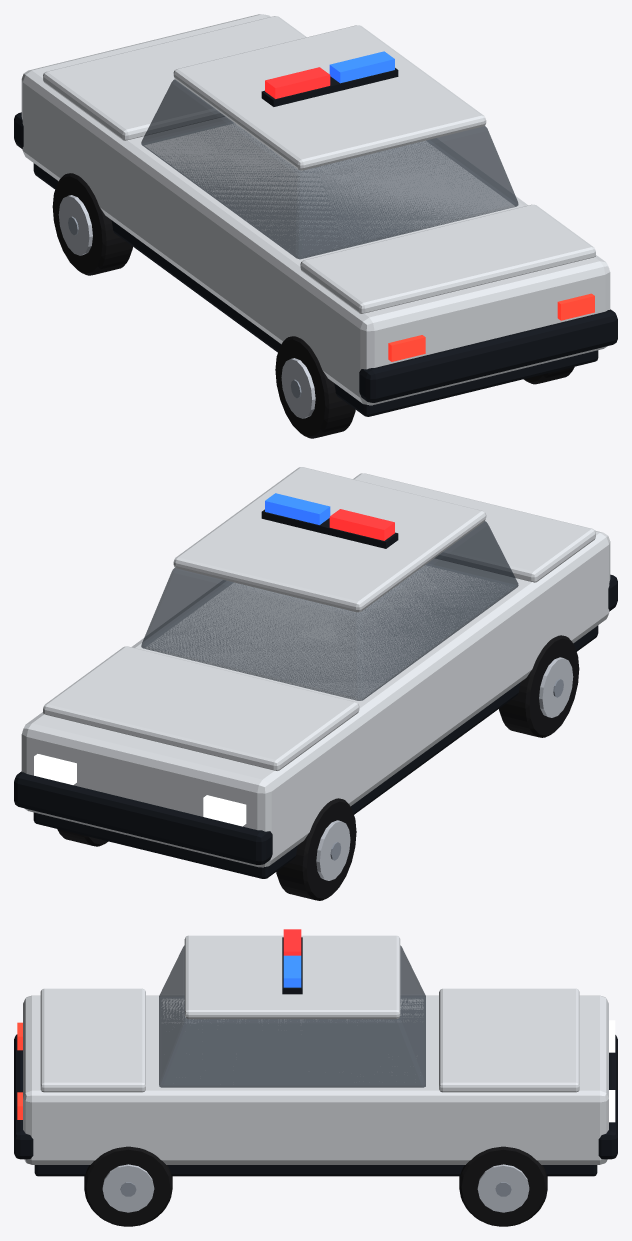
File: veh_police.glb
3 renders of one model, top to bottom at view 1: azimuth 30°, elevation 25°; view 2: azimuth 150°, elevation 25°; view 3: azimuth 270°, elevation 25°, orthographic. The views are drawn at different scales.
Visible parts, largest first — view 1: Body, Glass, Roof, Boot, Hood, Bumper_R, Skirt, Wheel_RL, Wheel_FL, Wheel_RL_Rim, Wheel_FL_Rim, Lightbar_R (+4 smaller); view 2: Body, Glass, Roof, Hood, Bumper_F, Boot, Skirt, Wheel_FL, Wheel_RL, Wheel_RL_Rim, Wheel_FL_Rim, Lightbar_R (+4 smaller); view 3: Body, Glass, Roof, Hood, Boot, Skirt, Wheel_FR, Wheel_RR, Wheel_FR_Rim, Wheel_RR_Rim, Bumper_R, Bumper_F (+2 smaller).
Boxes of the visible parts, left/top/right/bottom form: Body: left=21, top=14, right=610, bottom=405; Glass: left=141, top=79, right=518, bottom=259; Roof: left=173, top=25, right=486, bottom=170; Boot: left=300, top=204, right=595, bottom=313; Hood: left=43, top=16, right=306, bottom=140; Bumper_R: left=359, top=309, right=617, bottom=402; Skirt: left=33, top=163, right=598, bottom=416; Wheel_RL: left=275, top=336, right=355, bottom=438; Wheel_FL: left=52, top=173, right=132, bottom=275; Wheel_RL_Rim: left=281, top=358, right=315, bottom=418; Wheel_FL_Rim: left=58, top=195, right=92, bottom=255; Lightbar_R: left=265, top=67, right=330, bottom=98; Body: left=21, top=530, right=610, bottom=867; Glass: left=141, top=521, right=518, bottom=700; Roof: left=173, top=467, right=486, bottom=612; Hood: left=43, top=646, right=359, bottom=770; Bumper_F: left=14, top=771, right=272, bottom=864; Boot: left=353, top=473, right=595, bottom=582; Skirt: left=33, top=625, right=598, bottom=878; Wheel_FL: left=276, top=798, right=356, bottom=900; Wheel_RL: left=499, top=635, right=579, bottom=737; Wheel_RL_Rim: left=539, top=657, right=573, bottom=717; Wheel_FL_Rim: left=316, top=820, right=350, bottom=880; Lightbar_R: left=329, top=509, right=394, bottom=540; Body: left=23, top=995, right=608, bottom=1164; Glass: left=159, top=945, right=425, bottom=1087; Roof: left=184, top=935, right=400, bottom=1019; Hood: left=439, top=988, right=579, bottom=1092; Boot: left=40, top=988, right=145, bottom=1092; Skirt: left=34, top=1165, right=597, bottom=1176; Wheel_FR: left=459, top=1146, right=547, bottom=1226; Wheel_RR: left=84, top=1146, right=172, bottom=1226; Wheel_FR_Rim: left=477, top=1164, right=529, bottom=1212; Wheel_RR_Rim: left=102, top=1164, right=154, bottom=1212; Bumper_R: left=14, top=1034, right=33, bottom=1159; Bumper_F: left=598, top=1035, right=617, bottom=1159.
Size of the model in its own units: 2.01 by 1.92 by 4.74.
